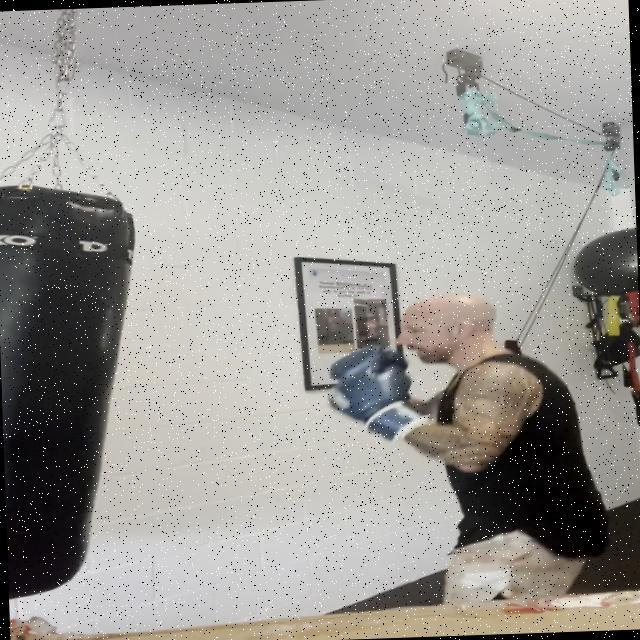bag: (0, 176, 150, 602)
